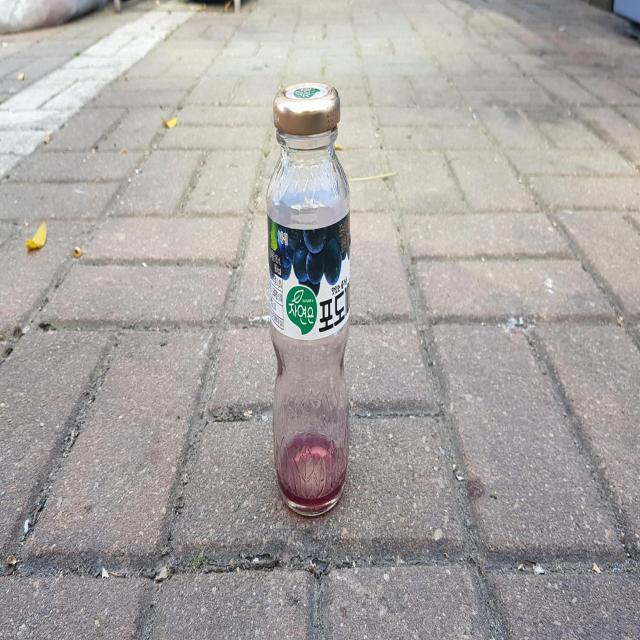glass: (267, 81, 351, 515)
